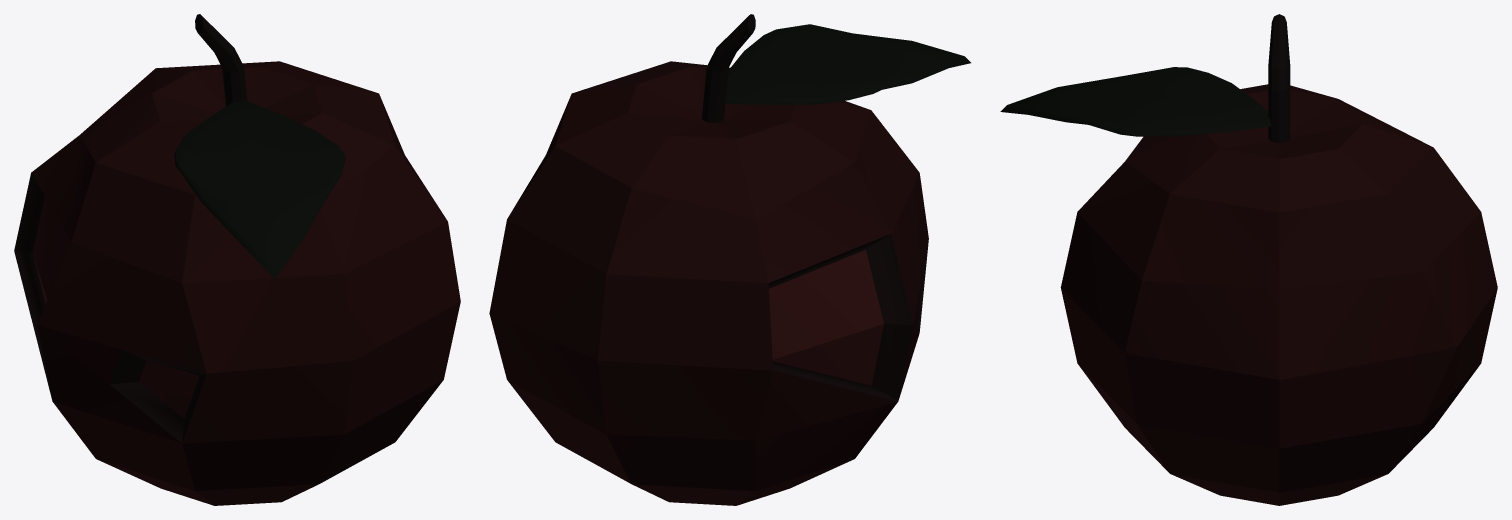
The model's file is FoodAppleRotten1.fbx.
The picture shows the model from 3 angles, left to right: view 1: azimuth 30°, elevation 25°; view 2: azimuth 150°, elevation 25°; view 3: azimuth 270°, elevation 25°; orthographic projection. The views are drawn at different scales.
Parts seen in each view (by area): view 1: RottenApple1; view 2: RottenApple1; view 3: RottenApple1.
Part boxes in pixels (box(x1,y1,x2,y2)): RottenApple1: box(14, 14, 460, 505); RottenApple1: box(489, 14, 970, 505); RottenApple1: box(1000, 14, 1497, 505).
Size of the model in its own units: 12.58 by 13.95 by 14.32.
